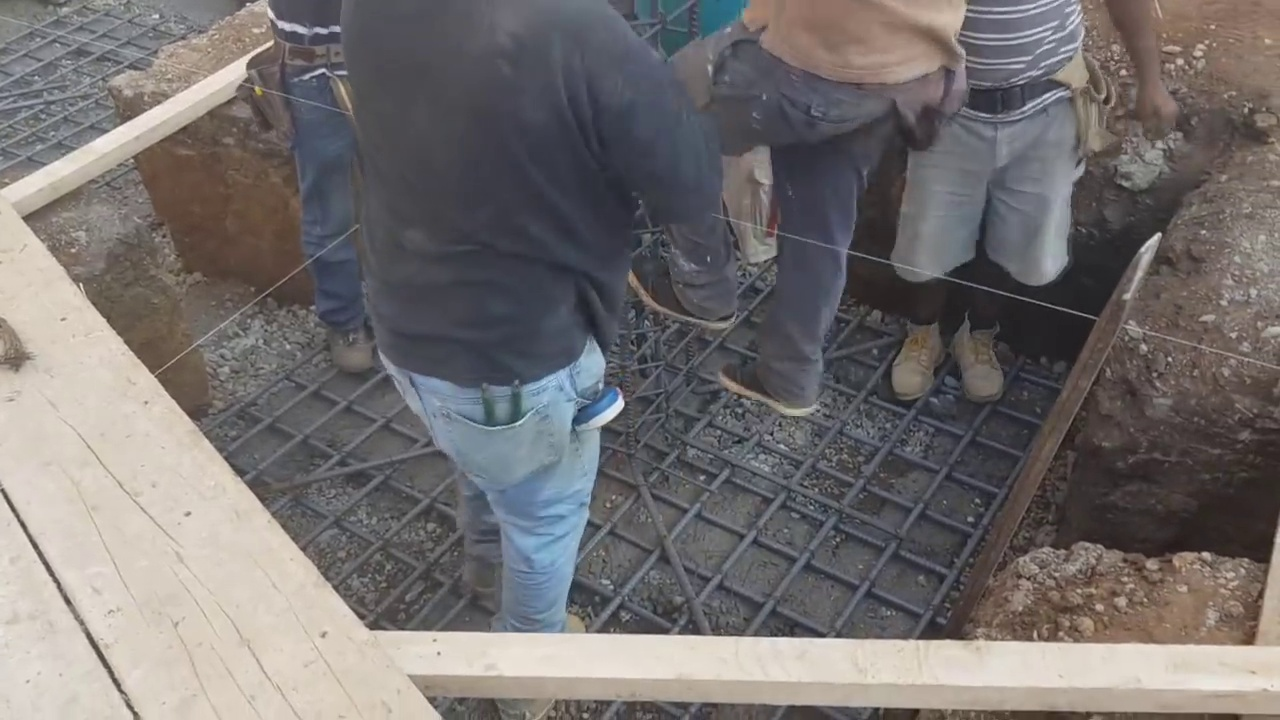person: (336, 6, 720, 633), (686, 0, 967, 438), (886, 0, 1168, 404), (267, 0, 370, 369)
